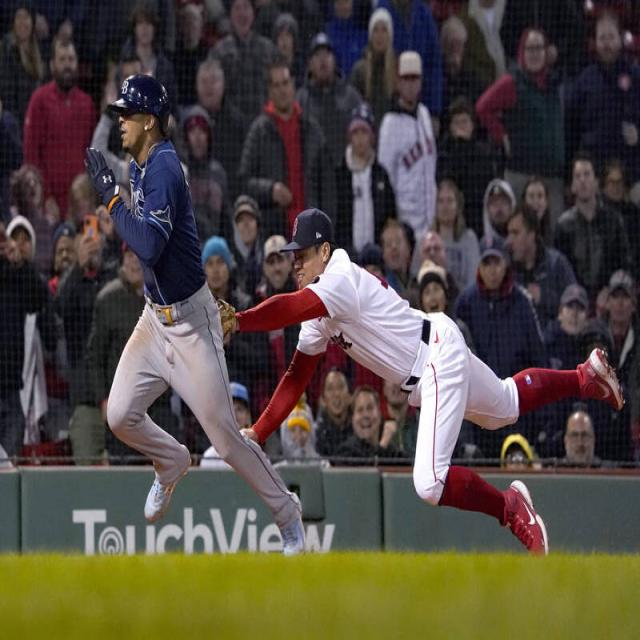lie: (267, 198, 622, 544)
stand: (98, 65, 236, 525)
